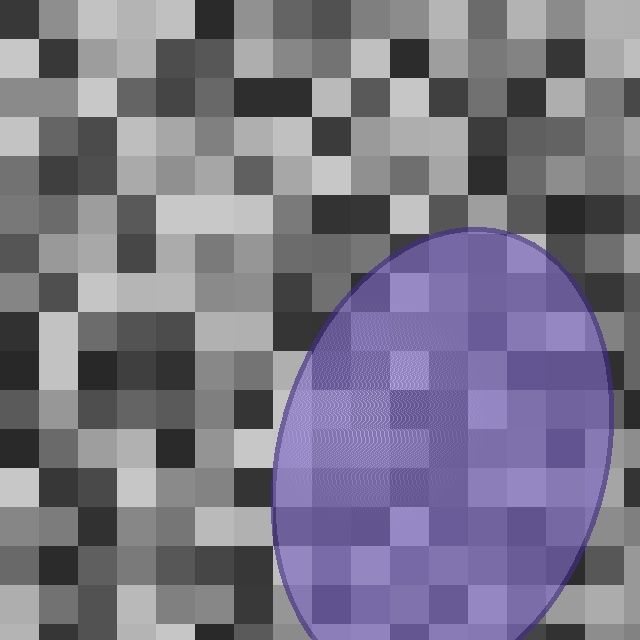lens: (274, 229, 610, 640)
